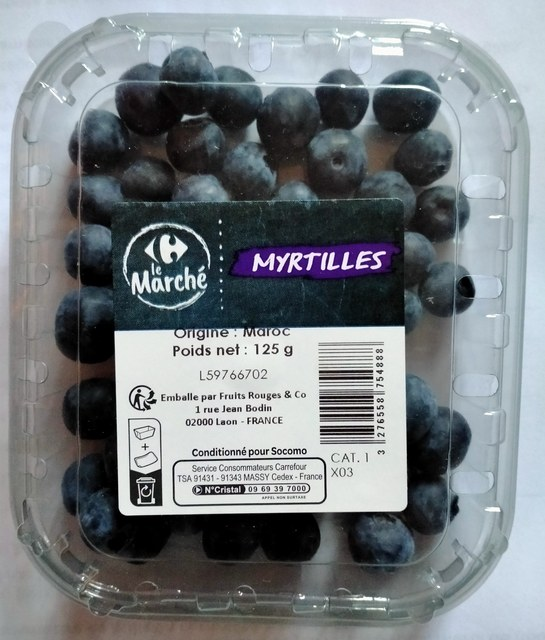Myrtilles: (27, 32, 518, 608)
